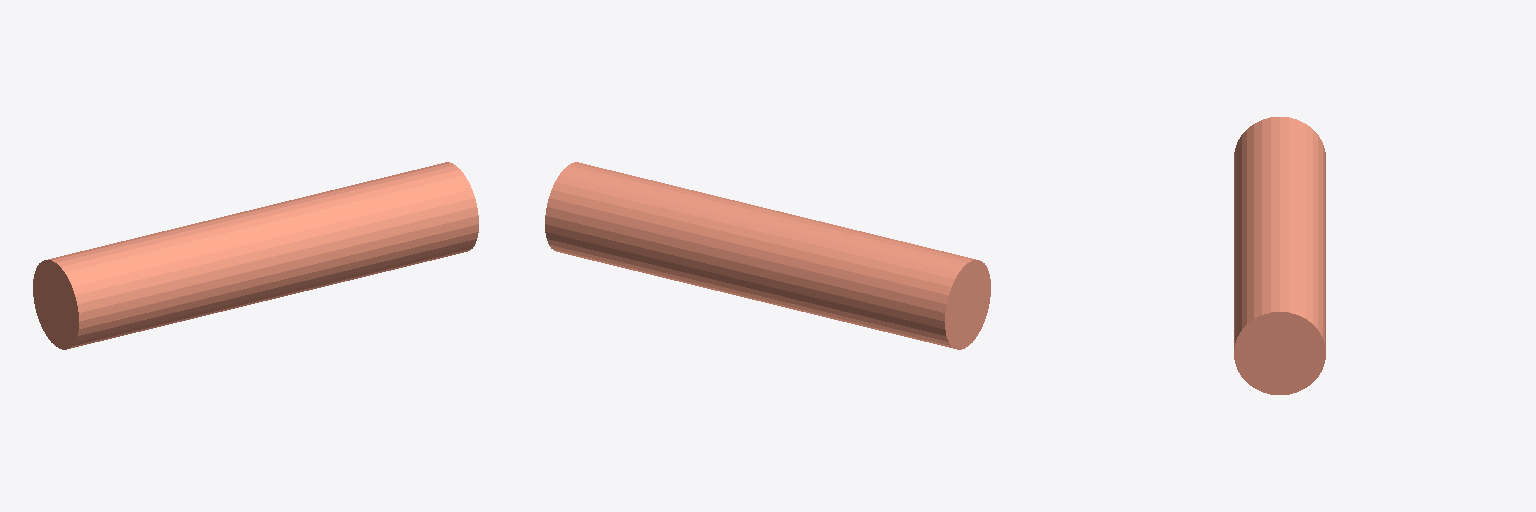
Rendered from TumbleSat1.obj.
3 renders of one model, left to right at view 1: azimuth 30°, elevation 25°; view 2: azimuth 150°, elevation 25°; view 3: azimuth 270°, elevation 25°, orthographic.
Parts seen in each view (by area): view 1: cylinder2; view 2: cylinder2; view 3: cylinder2.
Boxes of the visible parts, <box> form: cylinder2: <box>33,162,478,349</box>; cylinder2: <box>545,162,990,349</box>; cylinder2: <box>1234,117,1325,394</box>.
Bounding box in the file's own units: 1 × 0.2 × 0.2.